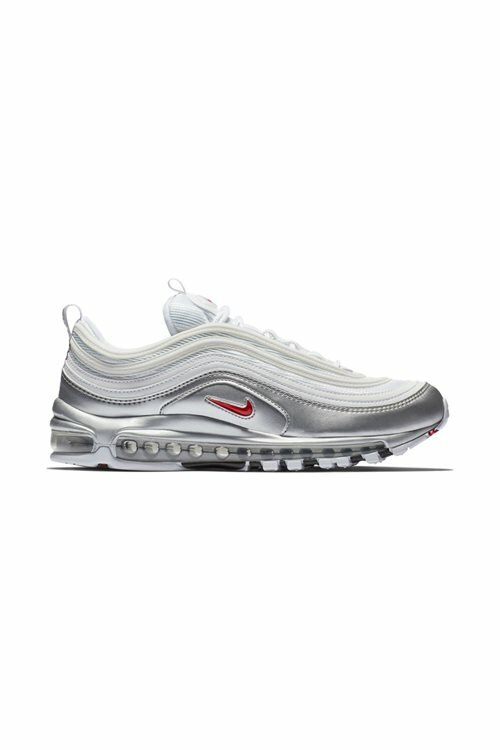nike: (204, 393, 258, 420)
